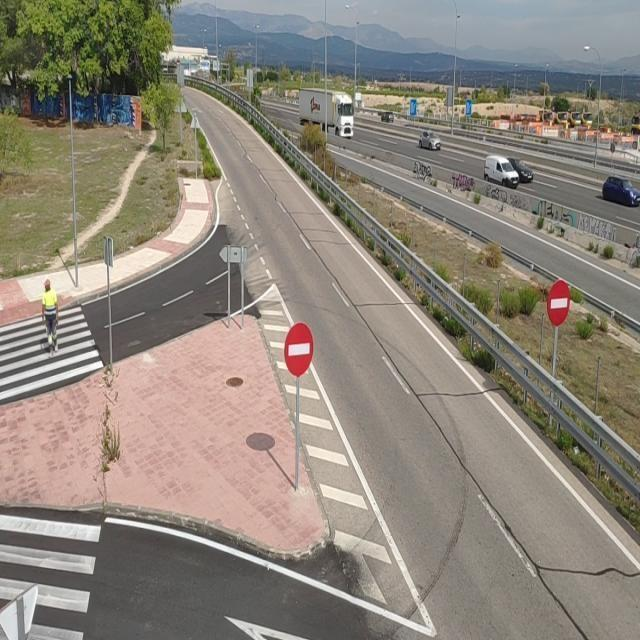Car: (601, 175, 640, 207), (418, 131, 441, 151)
Truck: (300, 86, 355, 138)
Van: (485, 156, 520, 188)
